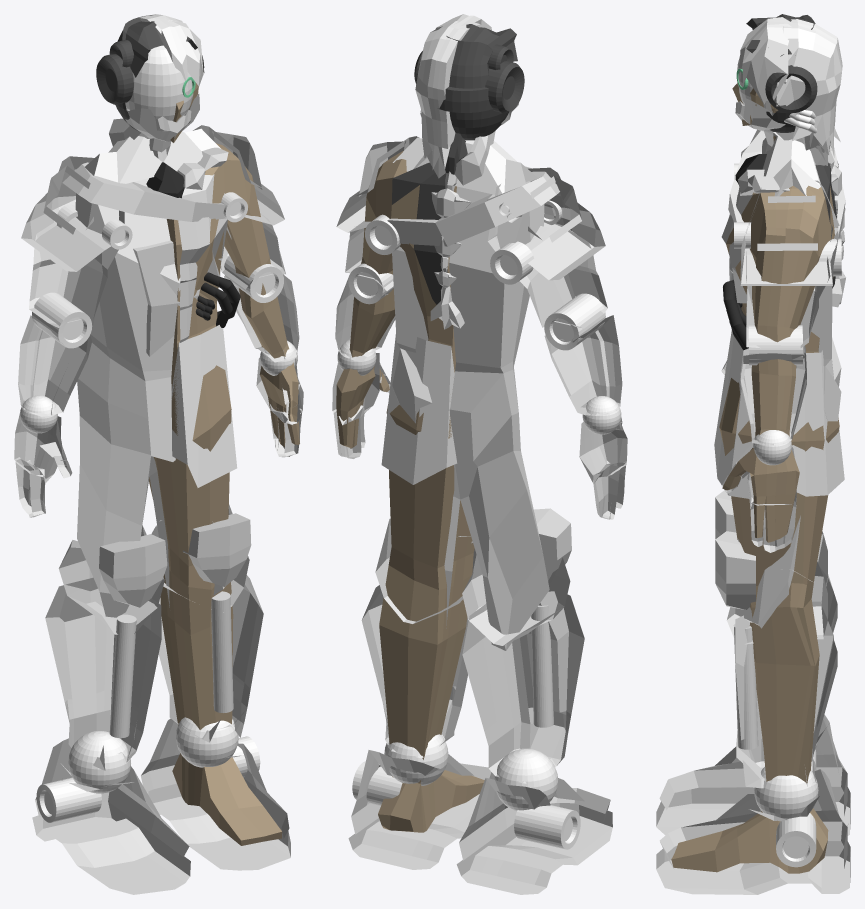
3 views of the same model, side by side, from view 1: azimuth 30°, elevation 25°; view 2: azimuth 150°, elevation 25°; view 3: azimuth 270°, elevation 25° (orthographic). The views are drawn at different scales.
Visible parts, largest first — view 1: body, robot body, sphere.004, mii.005, sphere.002, pants, Cube.009, Cube.011, mii.002, strap, mii.003, Cube.010 (+28 smaller); view 2: robot body, body, mii.005, sphere.004, sphere.002, pants, robot body.002, Cube.009, strap, Cube.011, hair base, screw.004 (+23 smaller); view 3: body, sphere.002, robot body, pants, sphere.004, hair base, mii.002, hair front, mii, Cube.001, sphere.001, screw (+19 smaller).
Boxes of the visible parts, left/top/right/bottom form: body: left=149, top=82, right=299, bottom=845; robot body: left=75, top=128, right=224, bottom=617; sphere.004: left=32, top=738, right=190, bottom=894; mii.005: left=45, top=577, right=161, bottom=770; sphere.002: left=141, top=718, right=290, bottom=870; pants: left=171, top=325, right=237, bottom=487; Cube.009: left=21, top=156, right=124, bottom=271; Cube.011: left=18, top=315, right=92, bottom=416; mii.002: left=158, top=575, right=263, bottom=742; strap: left=62, top=162, right=225, bottom=221; mii.003: left=99, top=534, right=167, bottom=607; Cube.010: left=29, top=221, right=118, bottom=327; robot body: left=392, top=137, right=549, bottom=650; body: left=336, top=151, right=484, bottom=832; mii.005: left=462, top=591, right=584, bottom=783; sphere.004: left=456, top=778, right=612, bottom=894; sphere.002: left=348, top=750, right=494, bottom=869; pants: left=381, top=334, right=457, bottom=484; robot body.002: left=438, top=24, right=517, bottom=174; Cube.009: left=487, top=167, right=605, bottom=280; strap: left=387, top=166, right=559, bottom=246; Cube.011: left=544, top=315, right=622, bottom=415; hair base: left=415, top=21, right=482, bottom=169; screw.004: left=490, top=200, right=605, bottom=350; body: left=671, top=83, right=839, bottom=873; sphere.002: left=656, top=769, right=850, bottom=894; robot body: left=735, top=136, right=841, bottom=628; pants: left=714, top=330, right=844, bottom=498; sphere.004: left=656, top=714, right=850, bottom=835; hair base: left=776, top=19, right=842, bottom=160; mii.002: left=735, top=601, right=837, bottom=788; hair front: left=739, top=17, right=792, bottom=104; mii: left=715, top=531, right=755, bottom=609; Cube.001: left=740, top=180, right=840, bottom=285; sphere.001: left=754, top=767, right=818, bottom=821; screw: left=734, top=222, right=841, bottom=365.
Bounding box in the file's own units: 2.9 × 8.25 × 1.75.
Materials: 7 (3 with a texture image).
